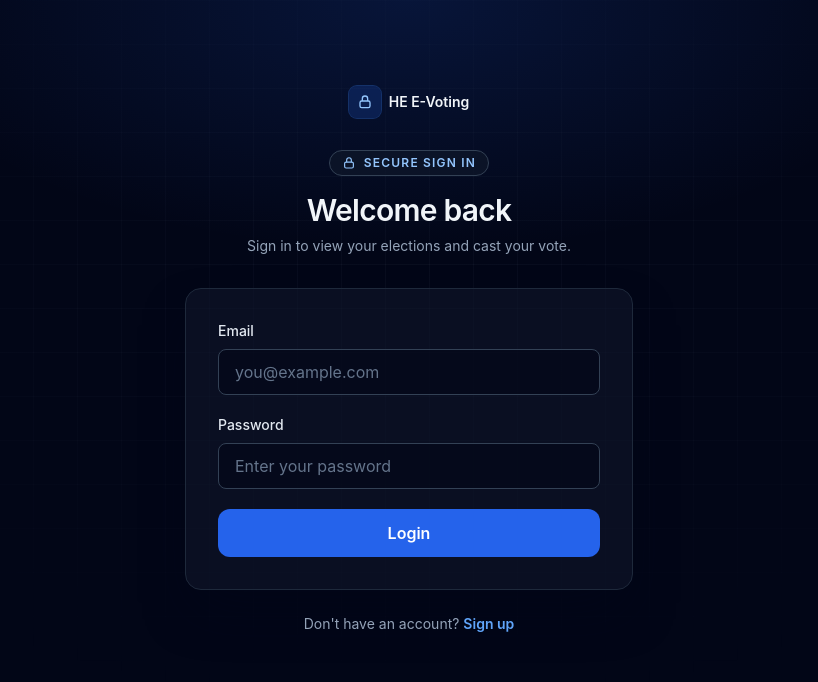
it: Login rejects incomplete credentials › replaces the raw validator text when the backend rejects the address
Type "a@b" into the field labelled "Email" at (409,372), box [218, 349, 600, 395]
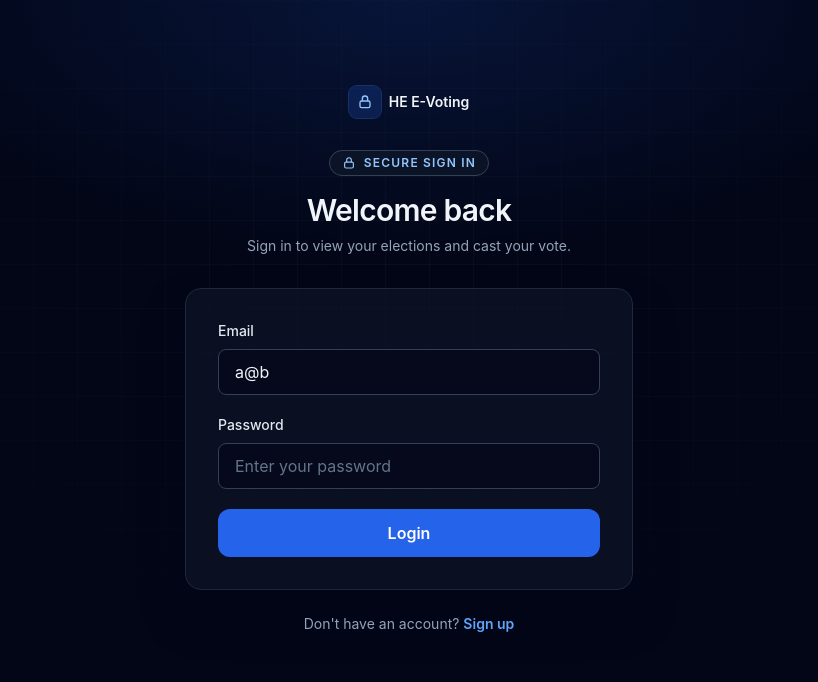
Type "pw" into the password field labelled "Password" at (409,466), box [218, 443, 600, 489]
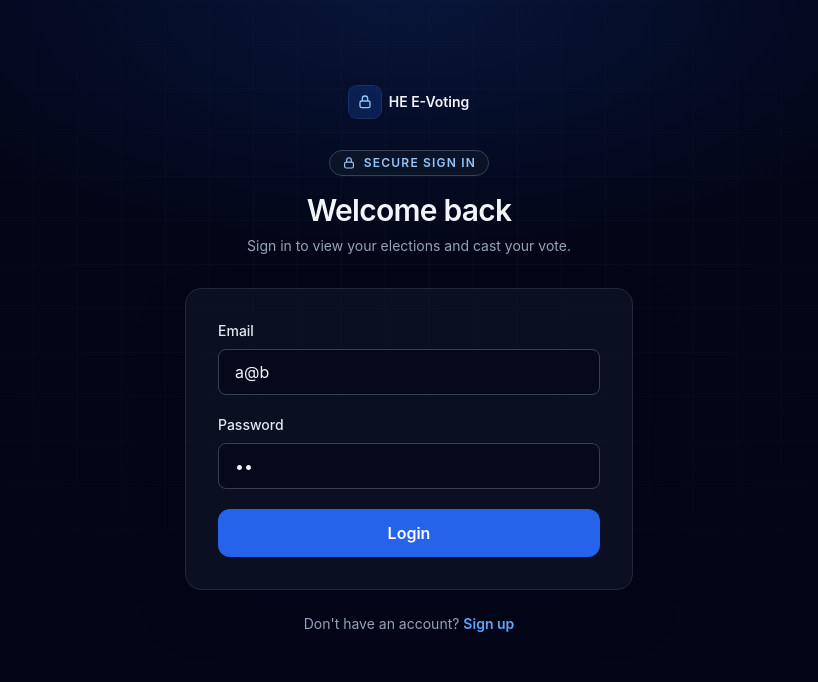
Click the button "Login" at (409,533), box [218, 509, 600, 557]
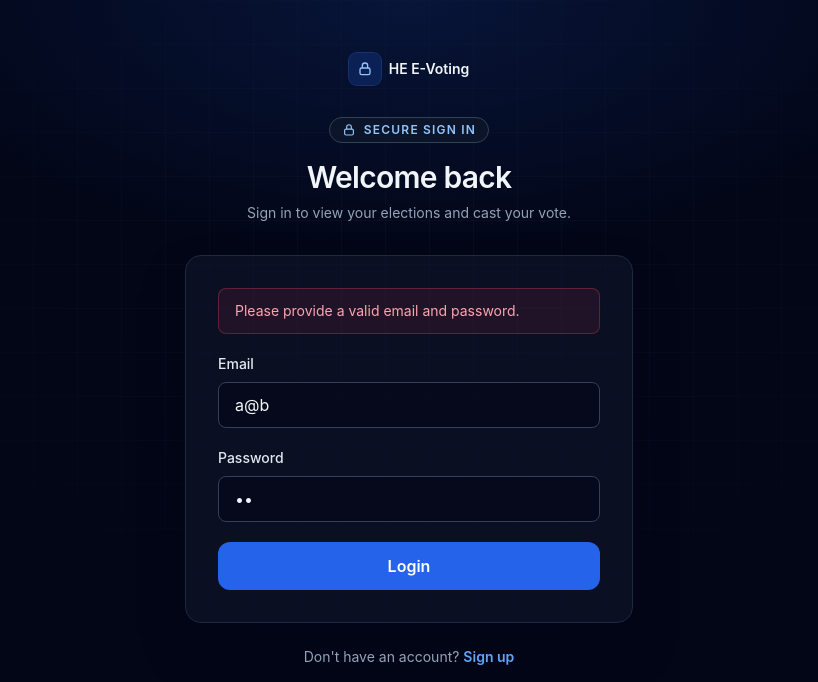
Check: the message reads "Please provide a valid email and password.", box [235, 302, 520, 319]
